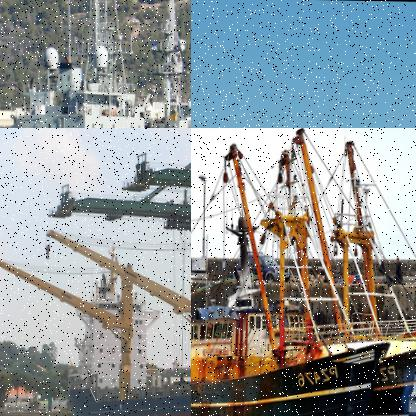Fishing Boat: (191, 128, 415, 415), (191, 139, 394, 415)
Merchant Ship: (67, 270, 190, 415)
Military Ship: (0, 0, 190, 127)
